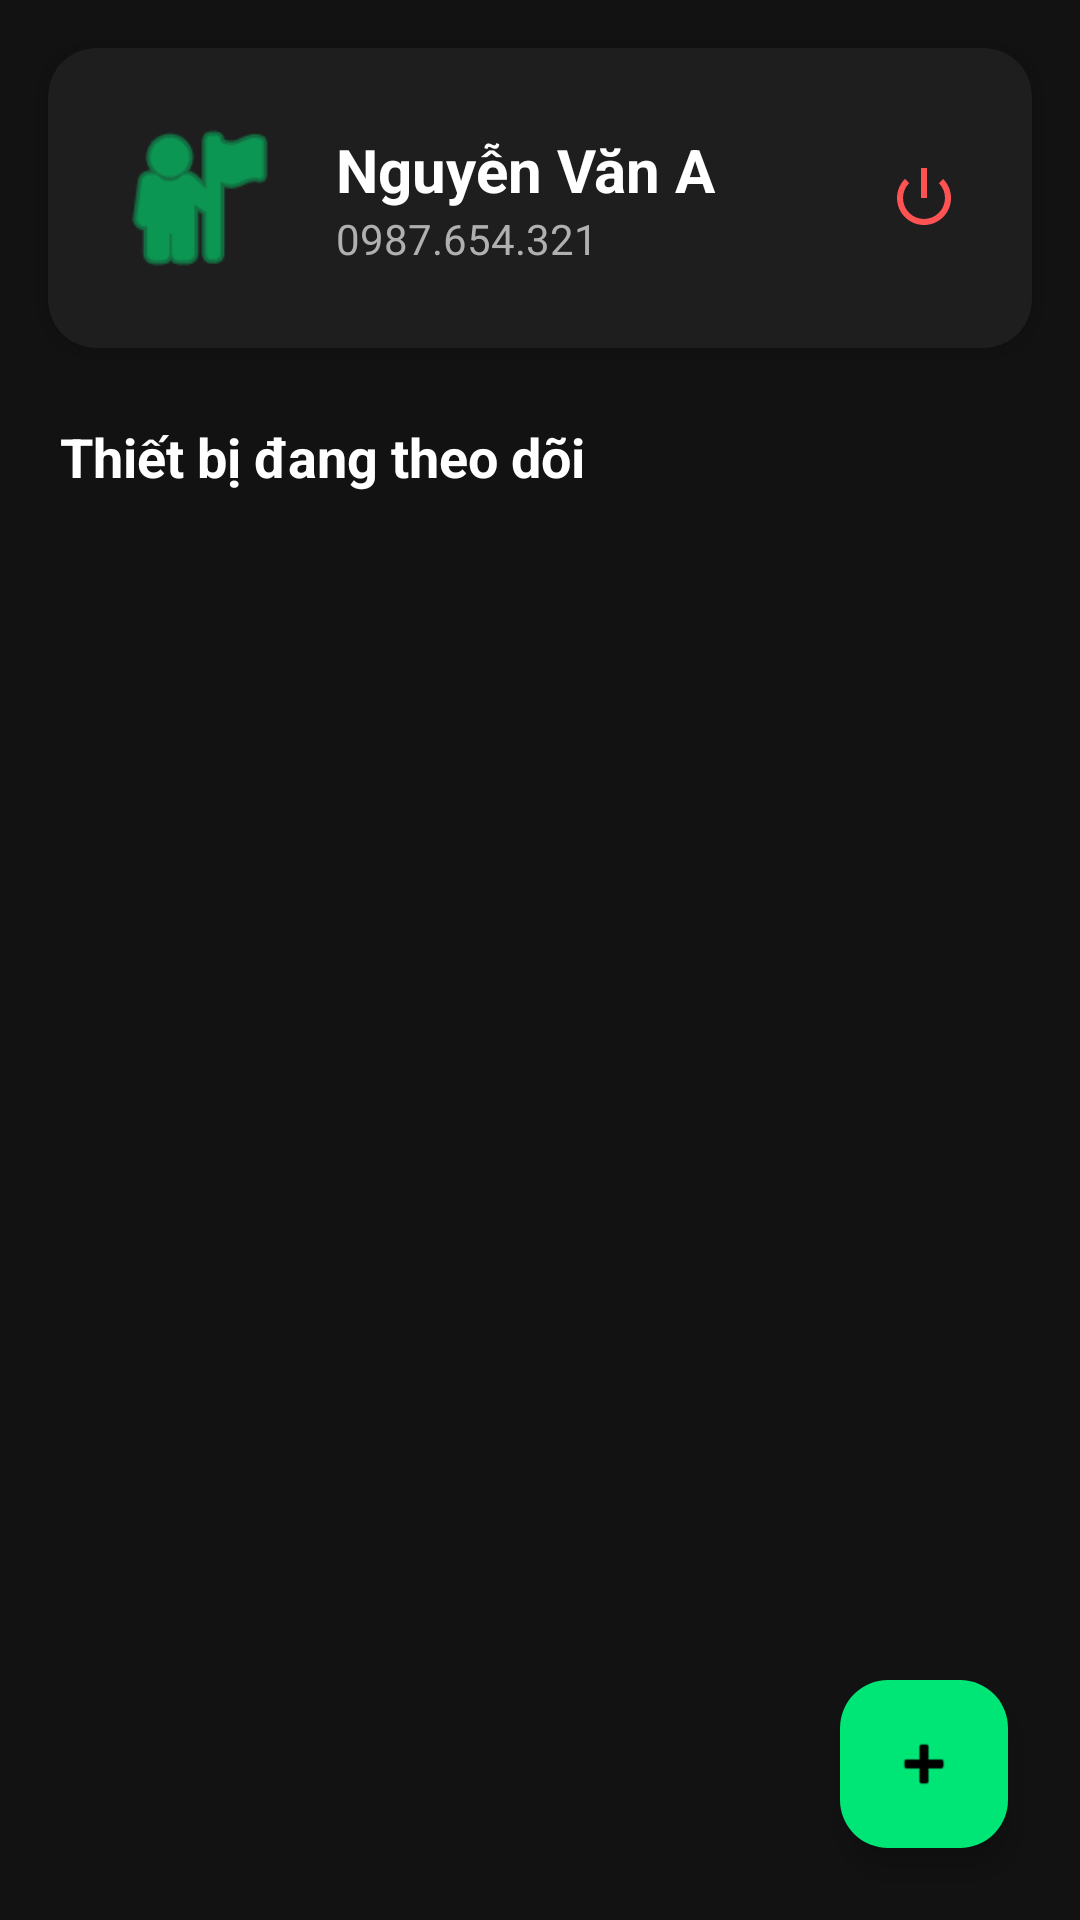

Icons on this 1080px x 1920px Android screen, each with its box as (x1, y1, x2, y2):
add: (840, 1680, 1008, 1848)
lock power off: (897, 168, 951, 225)
myplaces: (132, 131, 268, 265)
